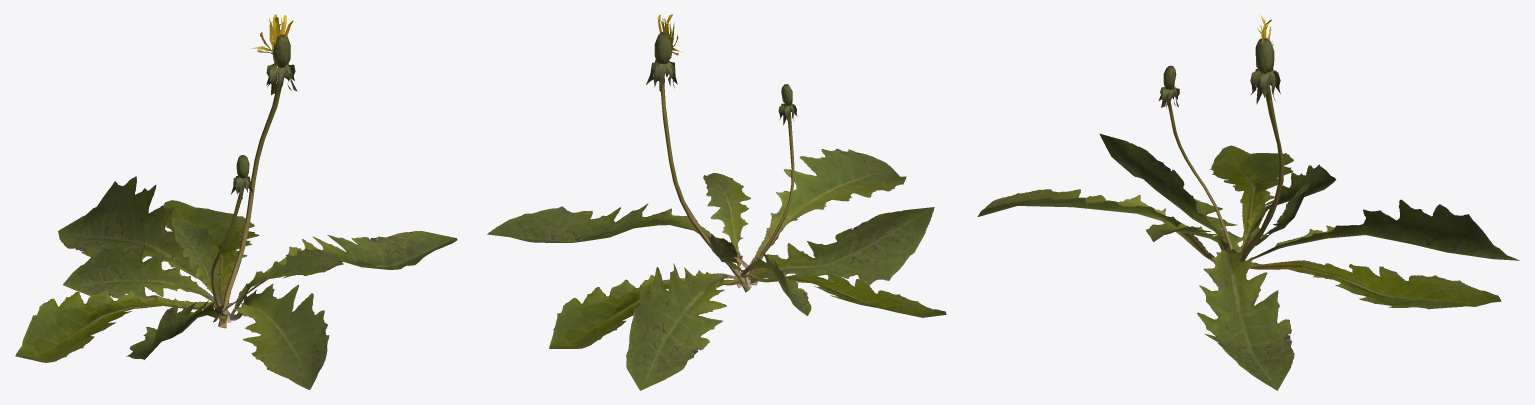
3 views of the same model, side by side, from view 1: azimuth 30°, elevation 25°; view 2: azimuth 150°, elevation 25°; view 3: azimuth 270°, elevation 25° (orthographic). The views are drawn at different scales.
Parts seen in each view (by area): view 1: dandelion_01__c_lod0; view 2: dandelion_01__c_lod0; view 3: dandelion_01__c_lod0.
Boxes of the visible parts, bbox=[...] form: dandelion_01__c_lod0: bbox=[15, 14, 457, 389]; dandelion_01__c_lod0: bbox=[487, 14, 946, 390]; dandelion_01__c_lod0: bbox=[977, 15, 1519, 390].
Size of the model in its own units: 0.1749 by 0.103 by 0.172.
1 material, 1 textured.
